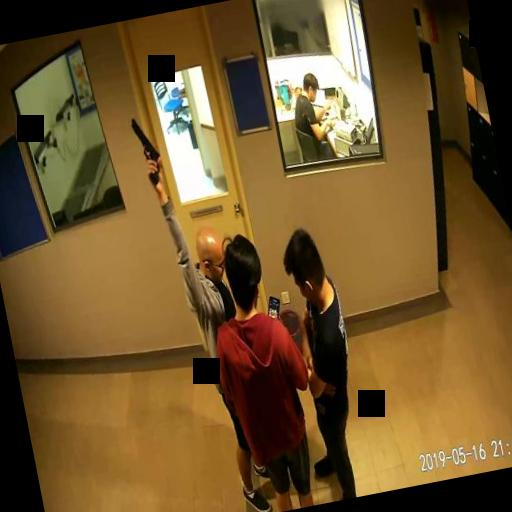Handgun: (130, 114, 164, 188)
